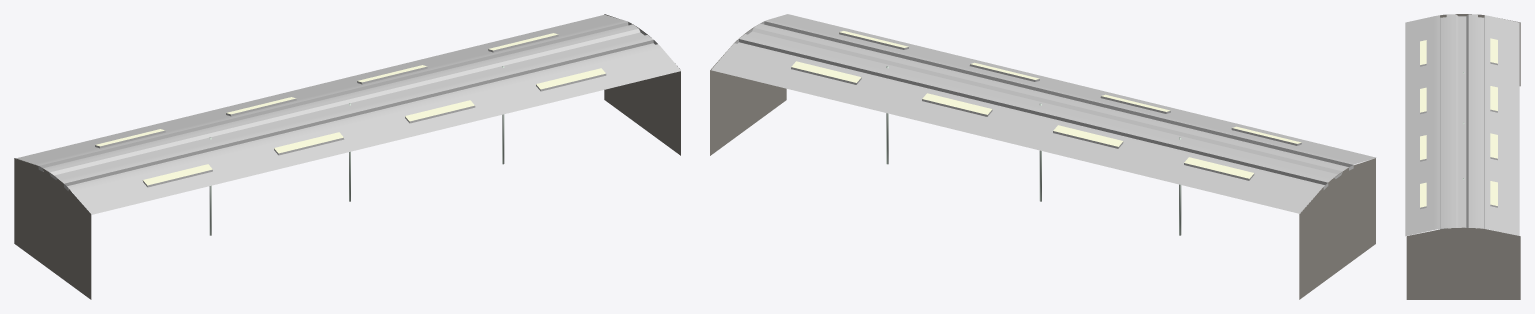
File: mrt_ceiling_wall.glb
3 views of the same model, side by side, from view 1: azimuth 30°, elevation 25°; view 2: azimuth 150°, elevation 25°; view 3: azimuth 270°, elevation 25° (orthographic). The views are drawn at different scales.
Visible parts, largest first — view 1: Cube.002; view 2: Cube.002; view 3: Cube.002.
Part boxes in pixels (x1,y1,x2,y2): Cube.002: (14, 14, 680, 299); Cube.002: (710, 14, 1376, 299); Cube.002: (1405, 14, 1520, 299).
Size of the model in its own units: 6.33 by 1.02 by 1.44.
